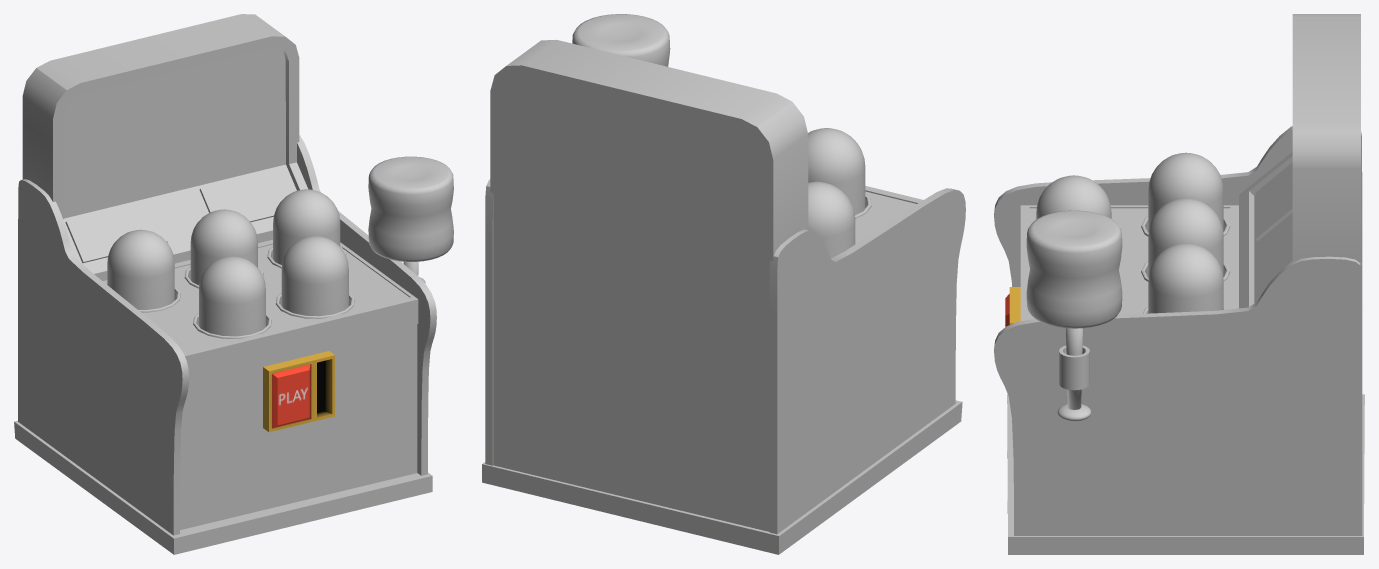
The model's file is whack_a_mole_alt.fbx.
3 renders of one model, left to right at view 1: azimuth 30°, elevation 25°; view 2: azimuth 150°, elevation 25°; view 3: azimuth 270°, elevation 25°, orthographic. The views are drawn at different scales.
Parts seen in each view (by area): view 1: machine, mallet, Mole.004, Mole.005, Mole.003, Mole.001, Mole.002; view 2: machine, mallet, Mole.005, Mole.003; view 3: machine, mallet, Mole.002, Mole.003, Mole.001, Mole.005.
Boxes of the visible parts, x1=… form: machine: x1=14, y1=14, x2=436, y2=554; mallet: x1=368, y1=156, x2=453, y2=275; Mole.004: x1=281, y1=236, x2=348, y2=316; Mole.005: x1=199, y1=256, x2=265, y2=336; Mole.003: x1=107, y1=229, x2=174, y2=309; Mole.001: x1=190, y1=209, x2=257, y2=285; Mole.002: x1=273, y1=189, x2=340, y2=264; machine: x1=482, y1=39, x2=965, y2=554; mallet: x1=572, y1=14, x2=670, y2=66; Mole.005: x1=808, y1=128, x2=865, y2=214; Mole.003: x1=808, y1=181, x2=855, y2=258; machine: x1=994, y1=14, x2=1364, y2=554; mallet: x1=1026, y1=210, x2=1122, y2=421; Mole.002: x1=1148, y1=243, x2=1223, y2=313; Mole.003: x1=1148, y1=152, x2=1223, y2=232; Mole.001: x1=1148, y1=198, x2=1223, y2=277; Mole.005: x1=1036, y1=175, x2=1111, y2=218.
Size of the model in its own units: 884 by 1028 by 832.
